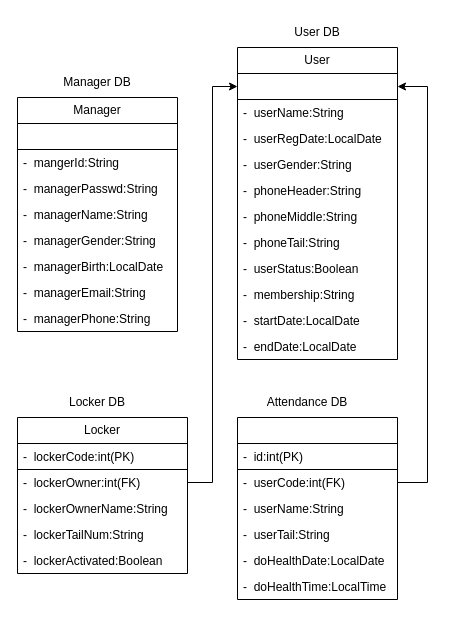
Image size: 453x619. Some labels were removed from this diagram. The shapes that lost their labels are listed below. From the top down, each one's box as (x1, y1, x2, y2) in pixels, then its label:
(236, 72, 398, 100): - userCode:int(PK)
(16, 122, 178, 150): - managerCode:int (PK)
(236, 416, 398, 600): Attendance
